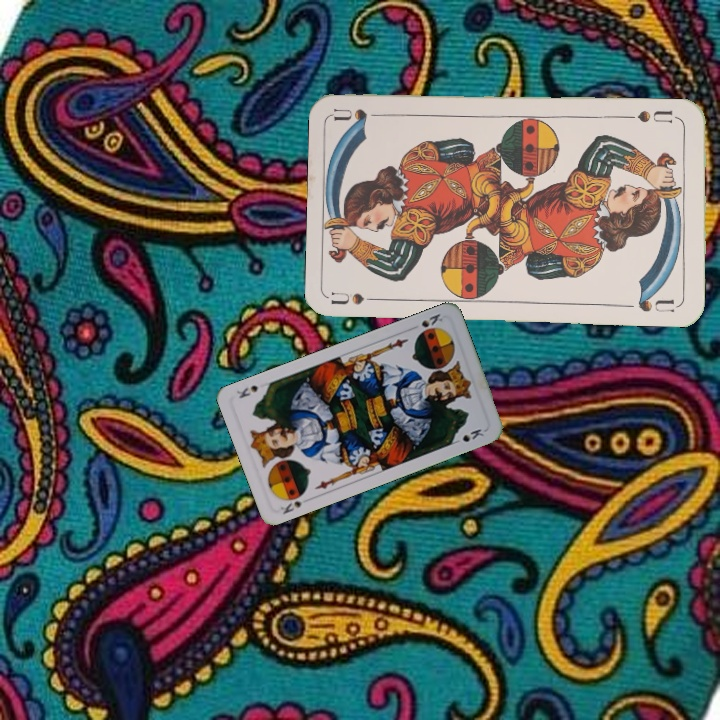SK: (277, 488, 313, 517), (417, 309, 445, 330)
SU: (329, 288, 388, 307), (634, 106, 675, 125)
